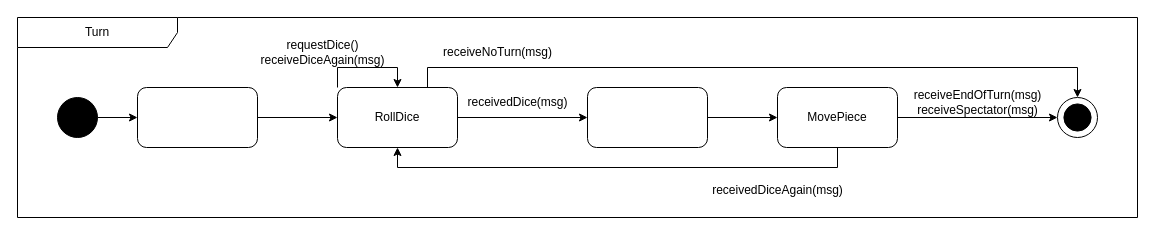
Image size: 1155x235. Some labels were removed from this diagram. Each missing label, with the centre of its shape:
ChoosePiece: point (647, 117)
PowerCard: point (197, 117)
